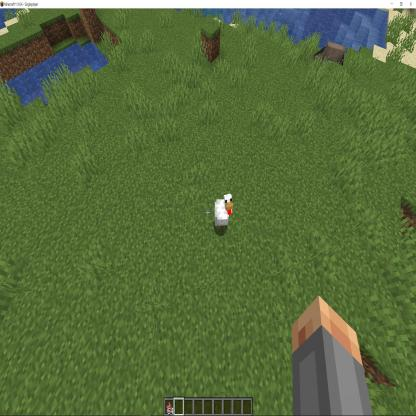minecraft-pigs: (214, 190, 234, 238)
